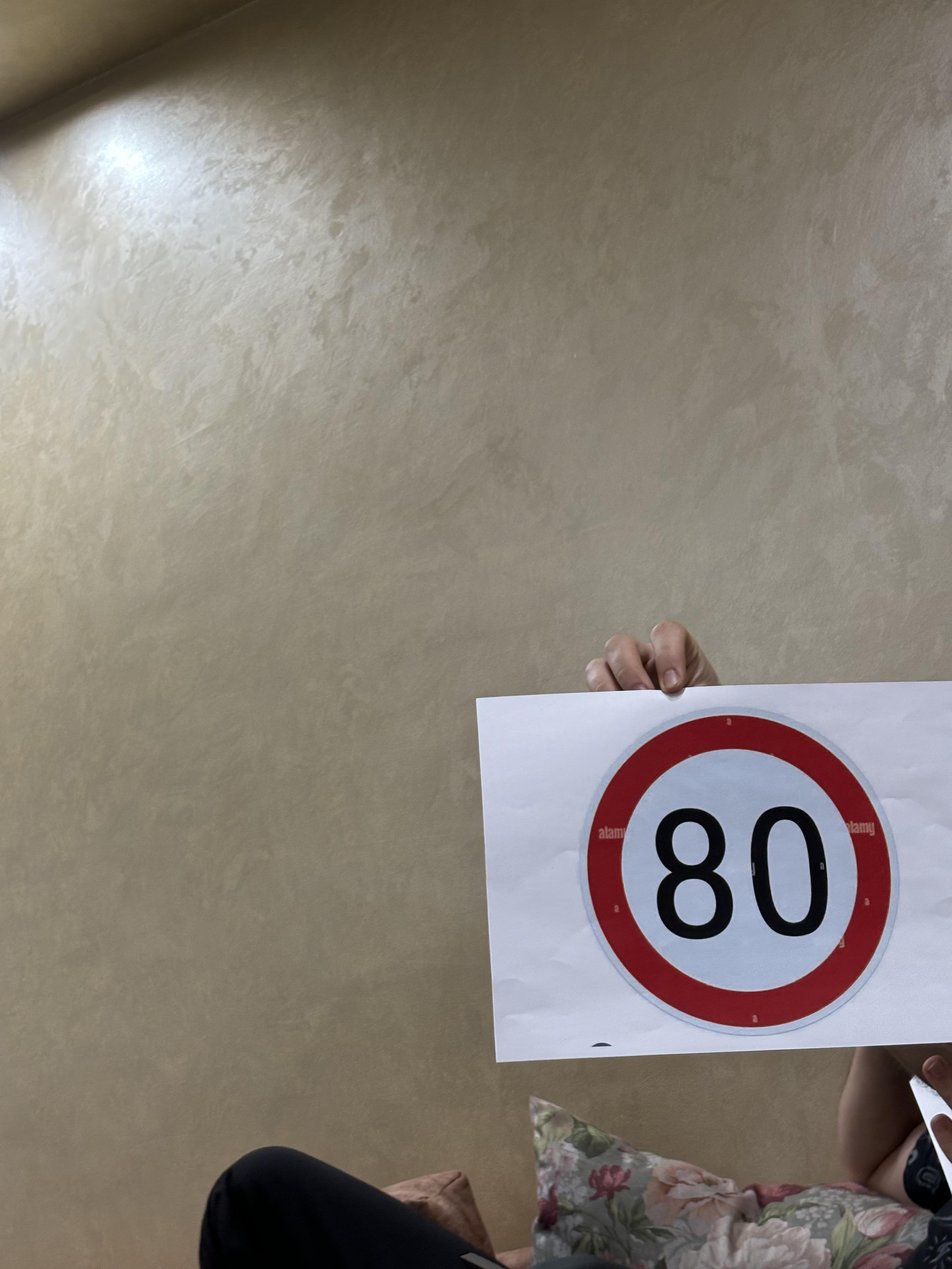80-Speed: (589, 706, 906, 1029)
